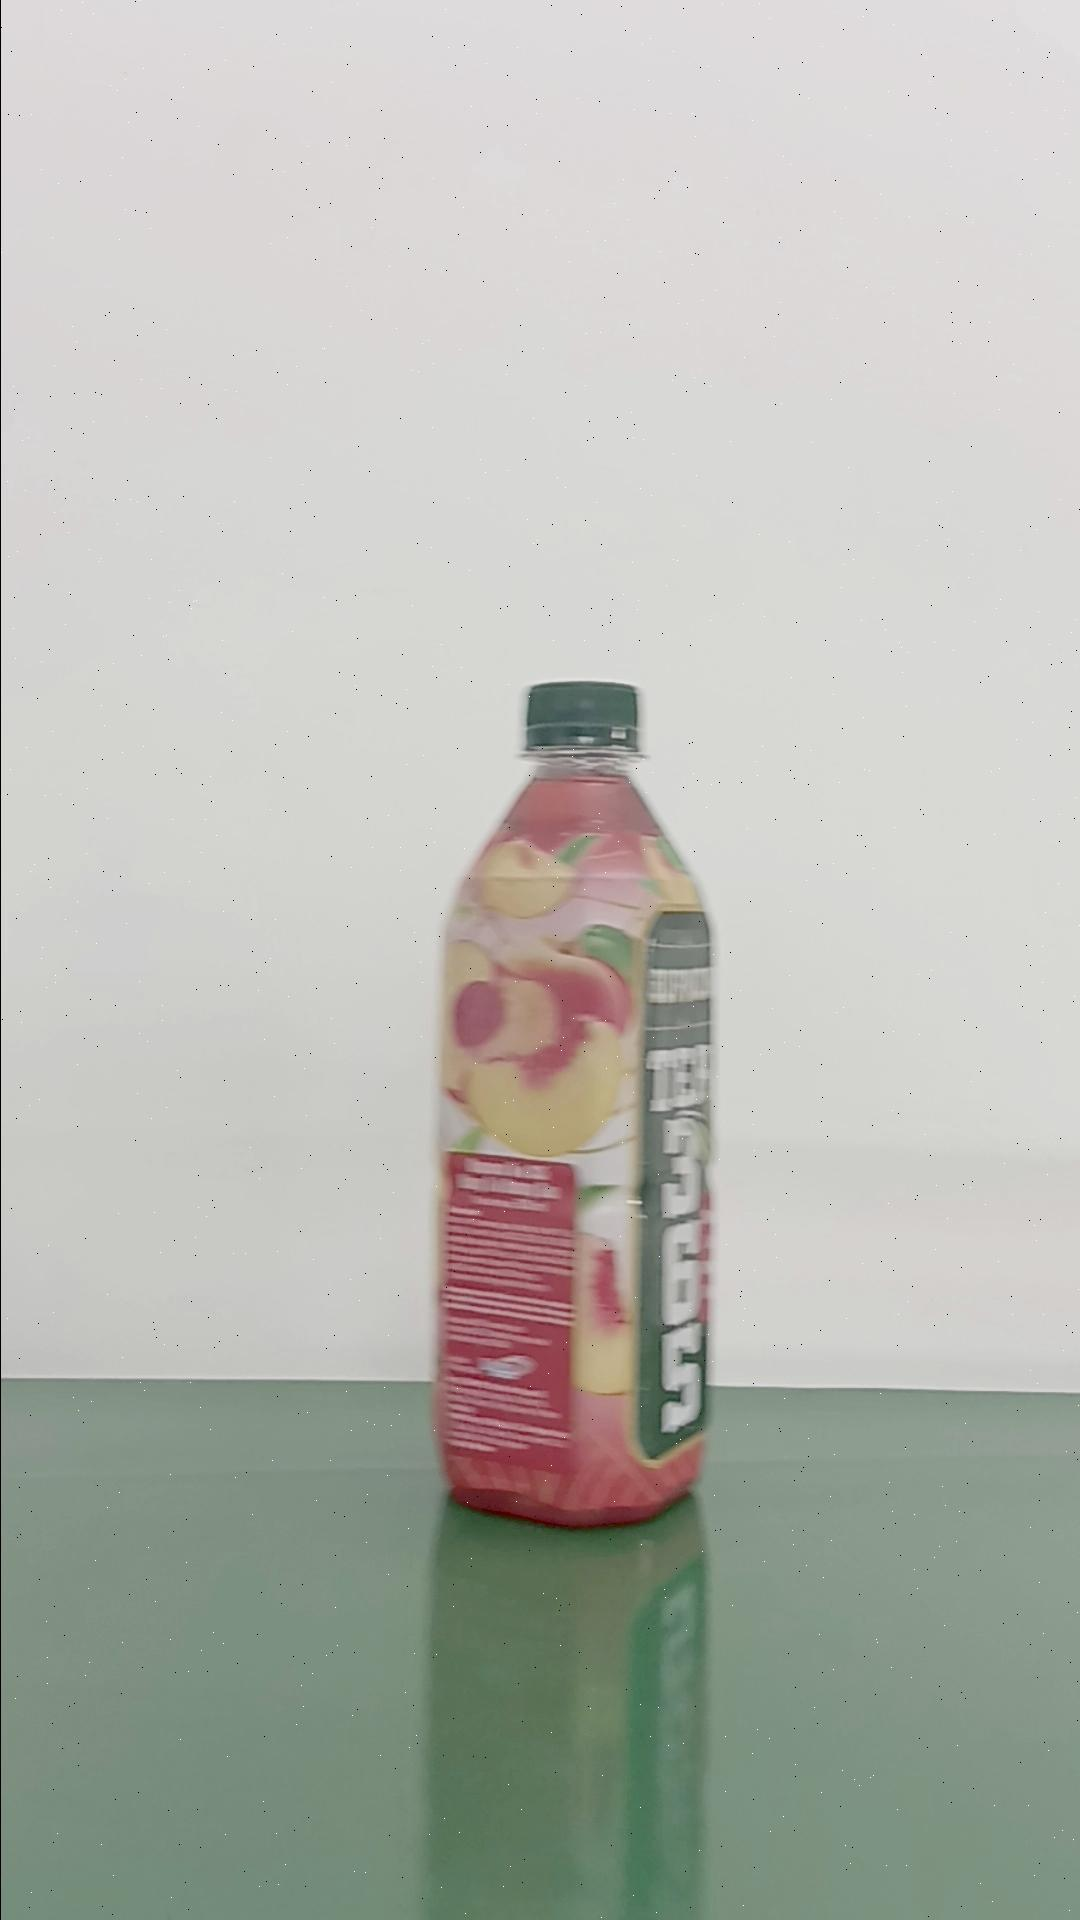khong loi: (429, 676, 717, 1528)
